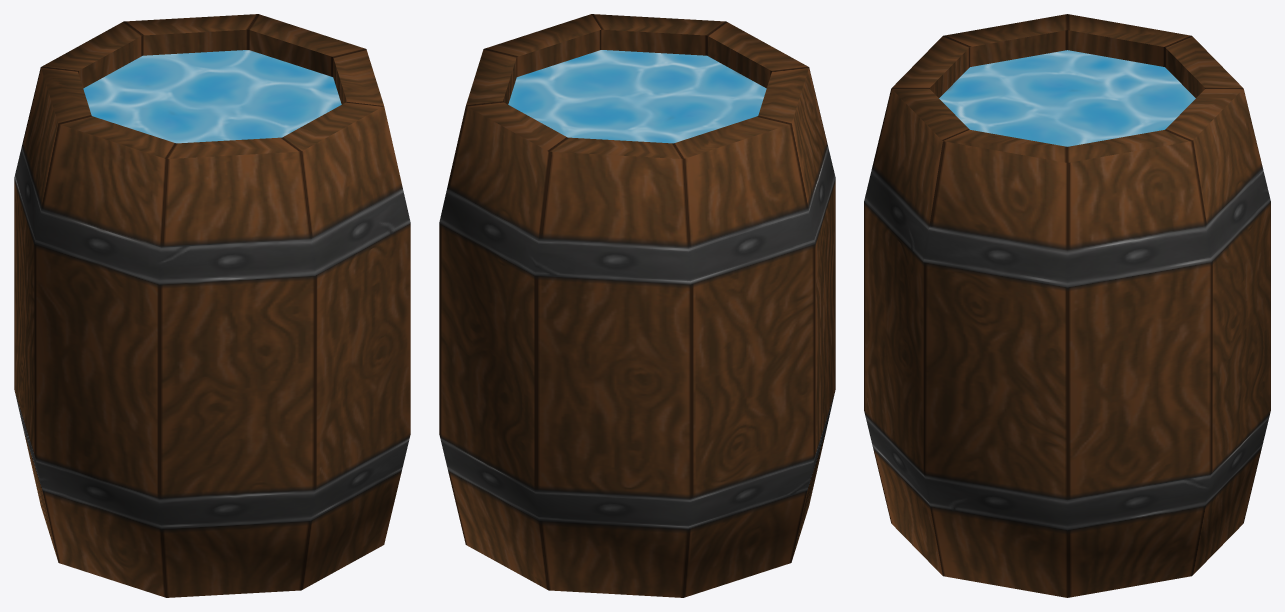
Rendered from barrel_01_water.fbx.
3 renders of one model, left to right at view 1: azimuth 30°, elevation 25°; view 2: azimuth 150°, elevation 25°; view 3: azimuth 270°, elevation 25°, orthographic.
Visible parts, largest first — view 1: barrel_01_water; view 2: barrel_01_water; view 3: barrel_01_water.
Boxes of the visible parts, box(x1,y1,x2,y2) form: barrel_01_water: box(14, 14, 410, 597); barrel_01_water: box(439, 14, 835, 597); barrel_01_water: box(864, 14, 1270, 597).
Size of the model in its own units: 0.416 by 0.4908 by 0.416.
